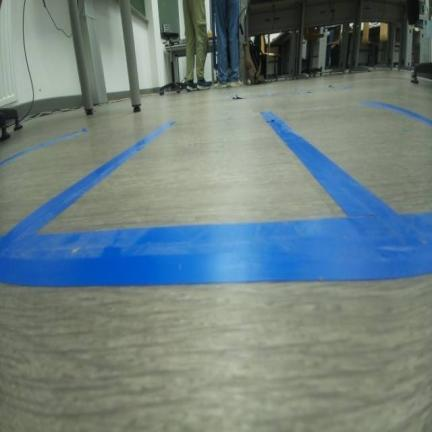place: (0, 107, 431, 283), (258, 100, 431, 276), (0, 117, 179, 271)
